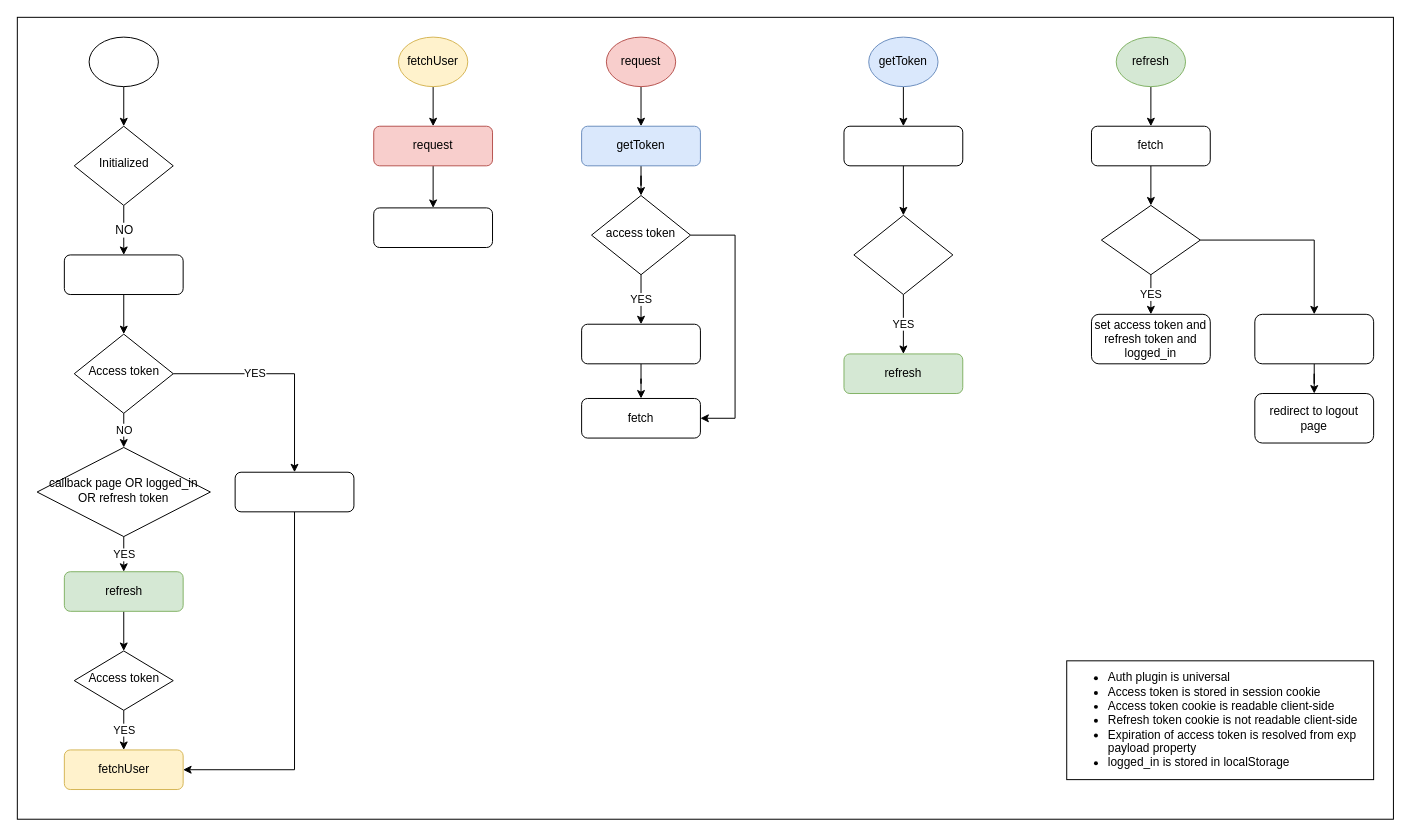
The diagram is 1411 pixels wide and 837 high, and some of its shapes have lost their labels. The centre of each missing label's shape, as x and y in pixels:
access token AND expired: the point at 903,254
Add authorization header: the point at 640,343
Auth Plugin: the point at 123,61
clear access token and refresh token and logged_in: the point at 1314,338
Get access token cookie: the point at 903,145
initialized = true: the point at 123,274
logged_in = yes: the point at 294,491
set user state: the point at 433,227
success: the point at 1150,239
